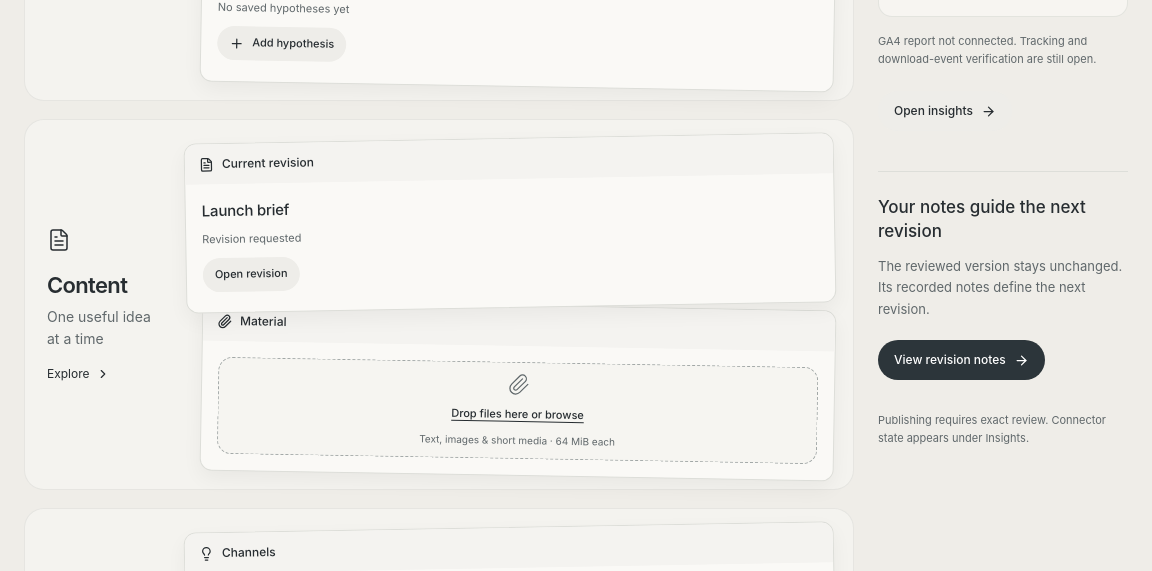
Scenario: Review Desk › opens the requested revision and its recorded notes from both project and research
This screenshot has width=1152, height=571.
(page scrolled)
Click the button "View revision notes" at {"x": 961, "y": 360}, box [878,340,1045,380]
(page scrolled)
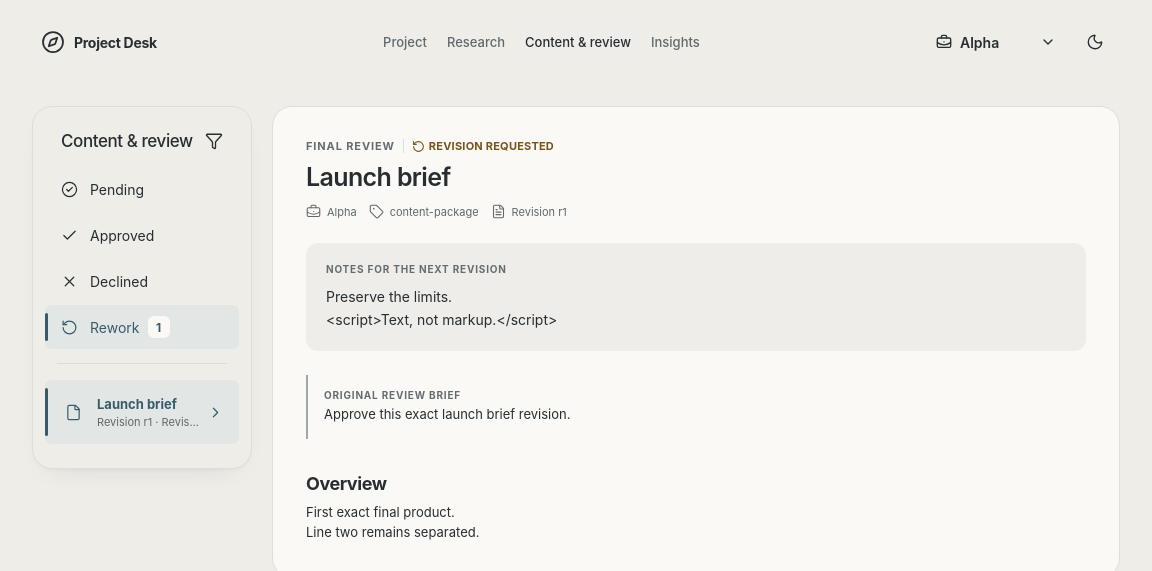
Result: the text "Preserve the limits. <script>Text, not markup.</script>" is shown at [326,288,557,328]
Click the button "Research" at {"x": 476, "y": 42}, box [437,22,515,62]
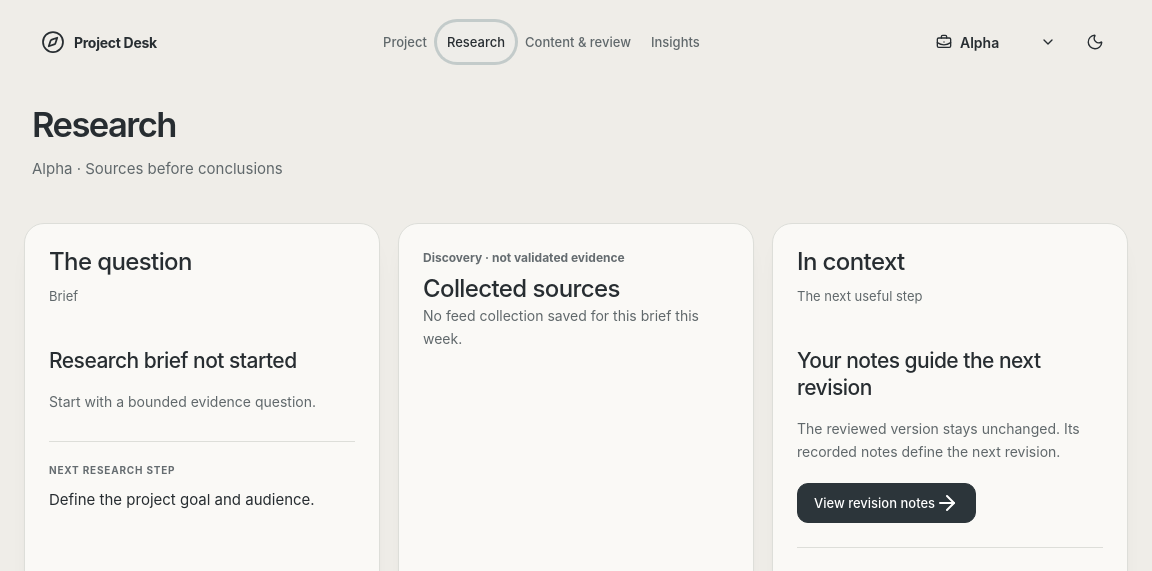
Click the button "View revision notes" at {"x": 887, "y": 503}, box [797,483,976,523]
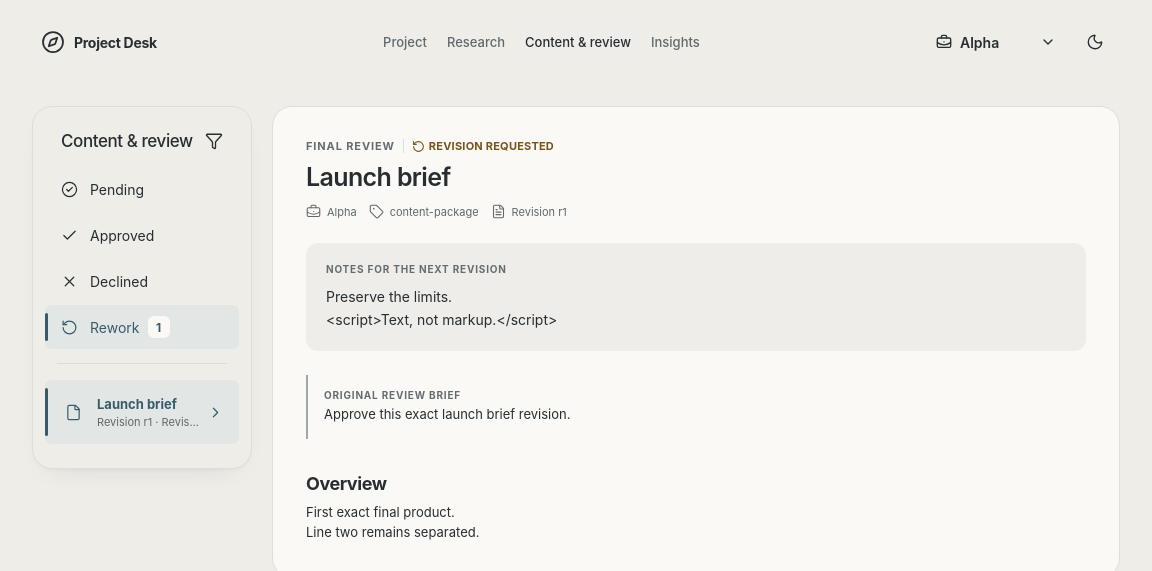
Result: the element named "Revision notes" is shown at [306,243,1086,351]
